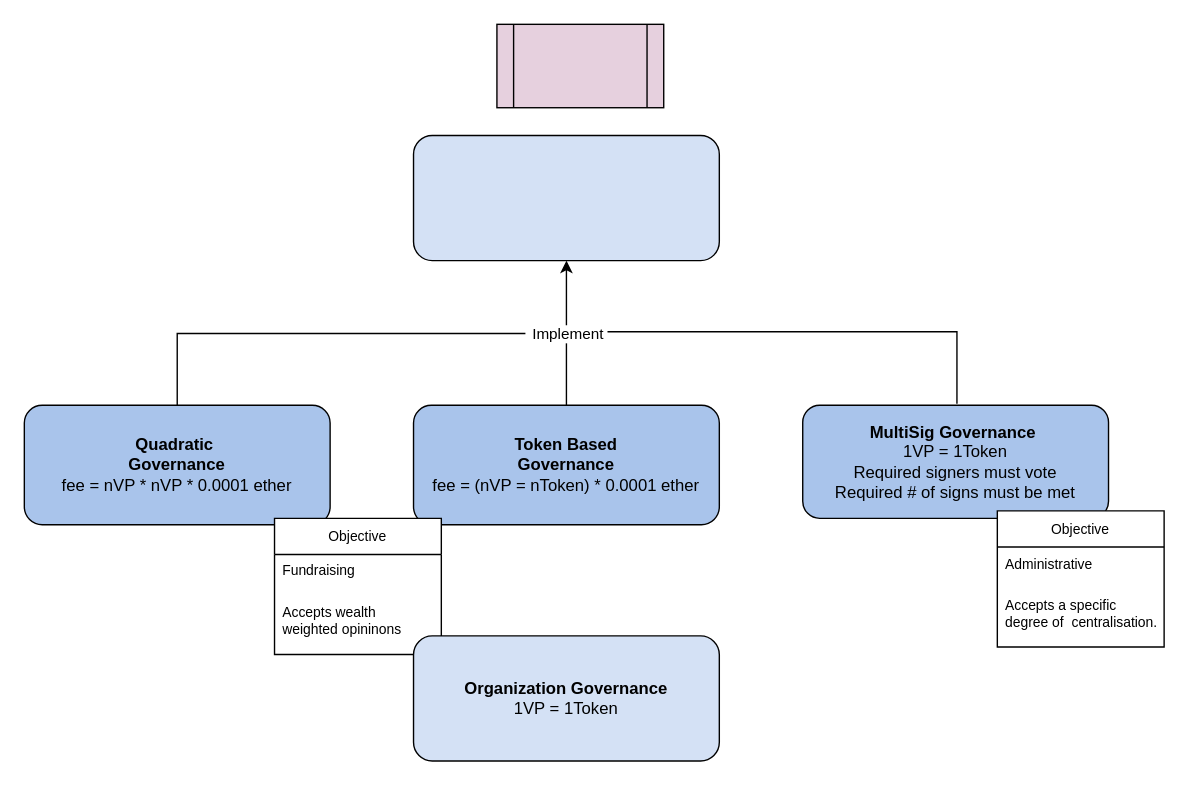
This 1188x785 diagram has some shape labels left out. The centre of each missing label's shape, as x and y in pixels:
CastVote: the point at 580,65
Governance VP = nWeight: the point at 565,197
